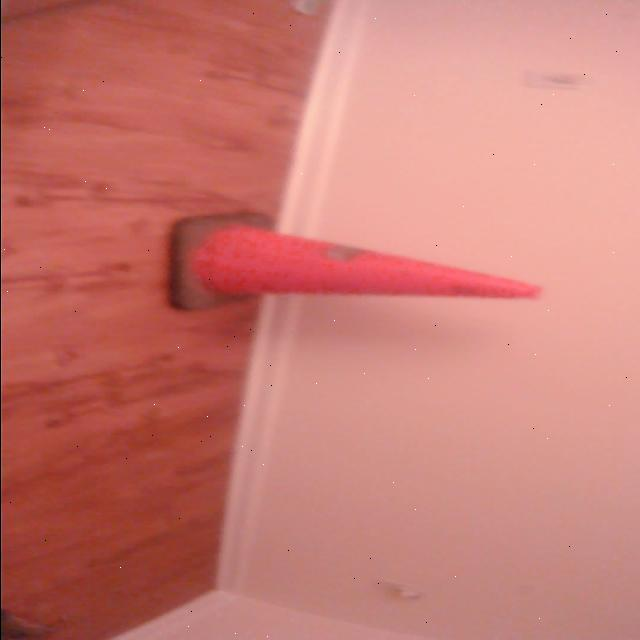traffic cone: (152, 209, 547, 319)
